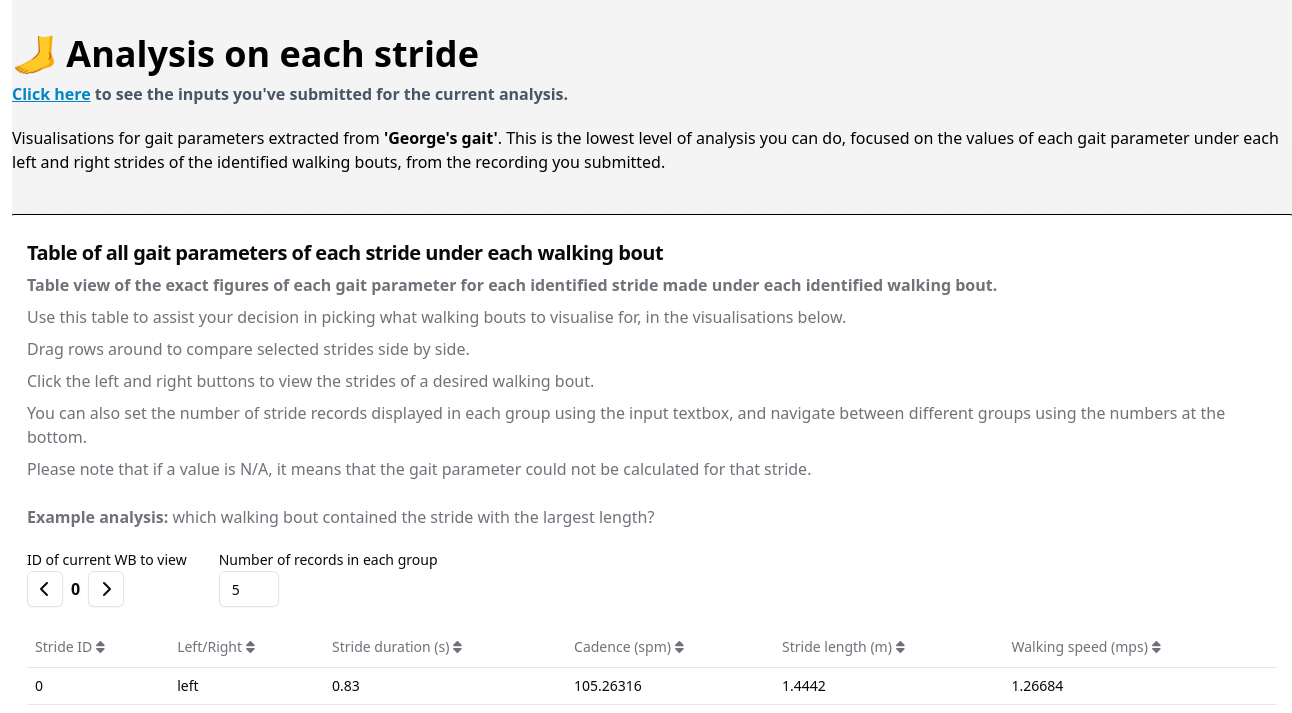
it: StrideAnalysis › TABLE: sorting function works (test for lr_label)
Click the picture with test id "sort-icon" next to "Left/Right" at [250, 646], box [246,640,254,654]
(page scrolled)
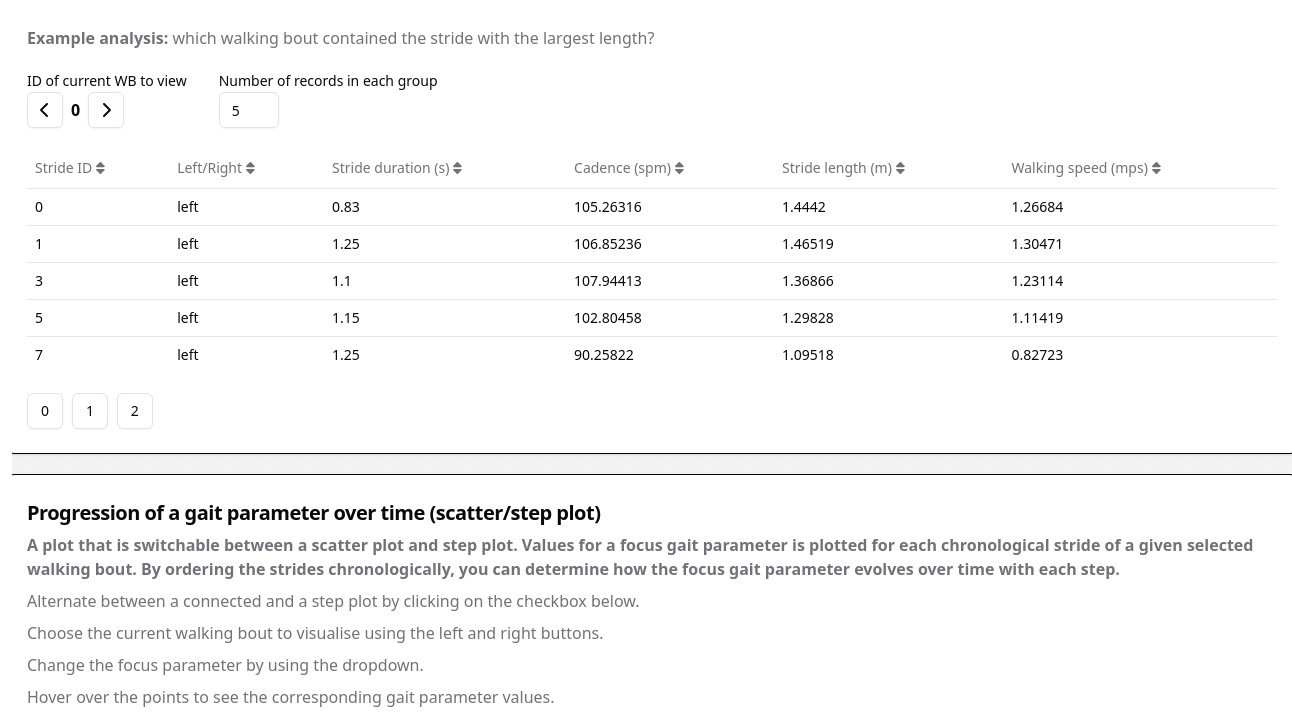
Expected: the text "left" next to "0.83" is shown, [177,196,198,216]
Expected: the text "left" in the row of "90.25822" is shown, [177,344,198,364]
